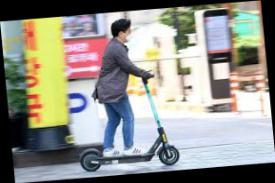nonhelmet: (66, 14, 182, 174)
